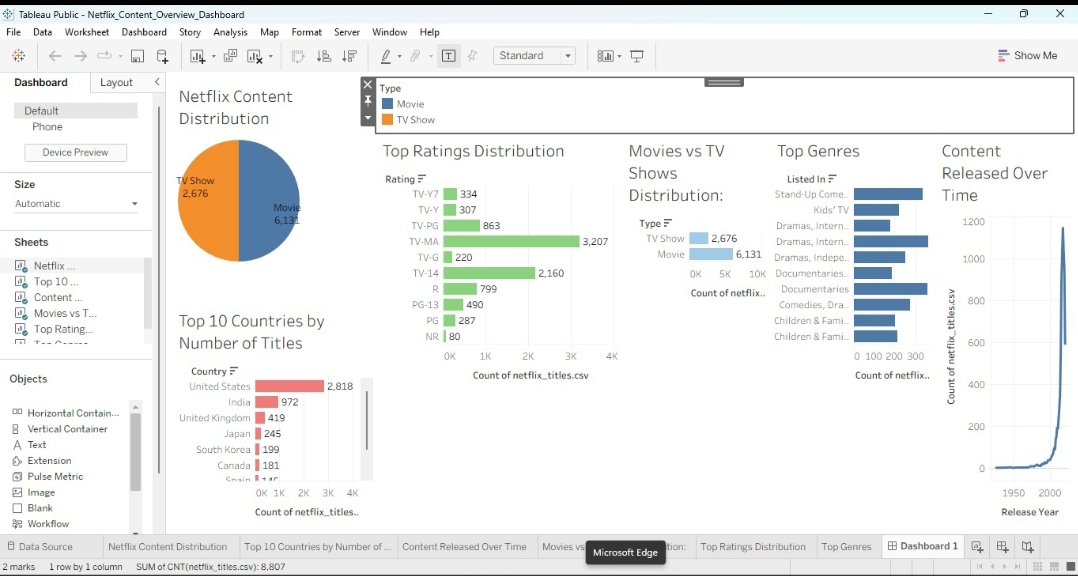

Layout of this report page (visuals, bound fields, positions):
{"tool":"tableau","page":{"name":"Dashboard 1","canvas":[1000,1000],"units":"permille","ordinal":0},"visuals":[{"type":"worksheet","title":"Netflix Content Distribution","mark":"Pie","box":[6.9,13.7,223.4,486.3]},{"type":"legend","title":"Netflix Content Distribution","param":"[federated.1gooep60ubxw9a1bfv0hf1eh7c36].[none:type:nk]","box":[230.3,13.7,762.8,118.2]},{"type":"worksheet","title":"Top Ratings Distribution","mark":"Automatic","rows":["rating"],"cols":["netflix_titles.csv_472154BA1B224A148B2605381CAF19B3"],"box":[230.3,131.8,269.3,854.5]},{"type":"worksheet","title":"Movies vs TV Shows Distribution:","mark":"Automatic","rows":["type"],"cols":["netflix_titles.csv_472154BA1B224A148B2605381CAF19B3"],"box":[499.6,131.8,162.8,854.5]},{"type":"worksheet","title":"Top Genres ","mark":"Automatic","rows":["listed_in"],"cols":["netflix_titles.csv_472154BA1B224A148B2605381CAF19B3"],"box":[662.3,131.8,180.1,854.5]},{"type":"worksheet","title":"Content Released Over Time","mark":"Automatic","rows":["netflix_titles.csv_472154BA1B224A148B2605381CAF19B3"],"cols":["release_year"],"box":[842.4,131.8,150.6,854.5]},{"type":"worksheet","title":"Top 10 Countries by Number of Titles","mark":"Automatic","rows":["country"],"cols":["netflix_titles.csv_472154BA1B224A148B2605381CAF19B3"],"box":[6.9,500,223.4,486.3]}]}

Visuals, with their boxes on the dashboard's canvas, which has no fixed pixel size, in thousandths of its width and height (x1, y1, x2, y2). These are canvas units, not pixel positions in the 1078x576 screenshot, which may show the page scaled, cropped or inside an application window:
"Netflix Content Distribution" worksheet (Pie marks): box=[7, 14, 230, 500]
"Netflix Content Distribution" legend: box=[230, 14, 993, 132]
"Top Ratings Distribution" worksheet: box=[230, 132, 500, 986]
"Movies vs TV Shows Distribution:" worksheet: box=[500, 132, 662, 986]
"Top Genres " worksheet: box=[662, 132, 842, 986]
"Content Released Over Time" worksheet: box=[842, 132, 993, 986]
"Top 10 Countries by Number of Titles" worksheet: box=[7, 500, 230, 986]
